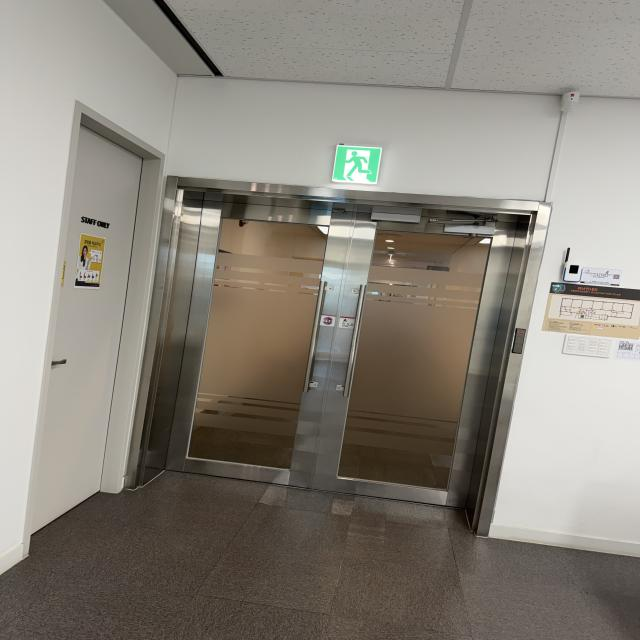rear_door: (153, 189, 532, 512)
